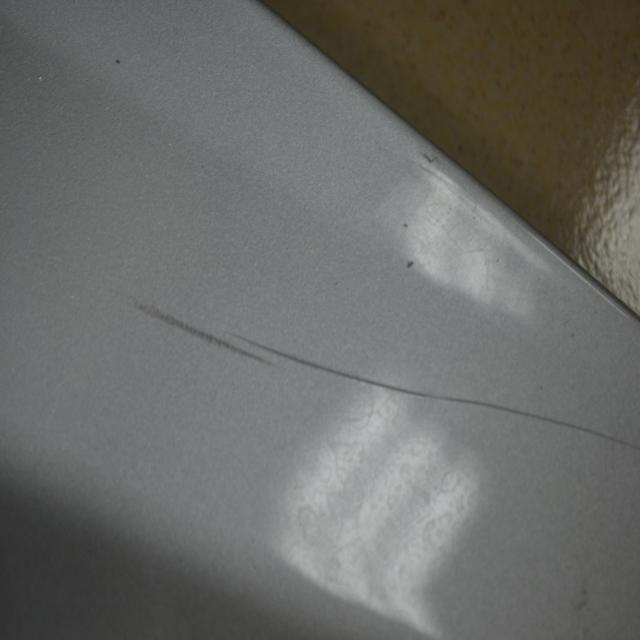dirt: (404, 254, 416, 274), (399, 217, 414, 233), (113, 53, 123, 67)
scratch: (239, 328, 640, 454), (132, 293, 277, 378)
